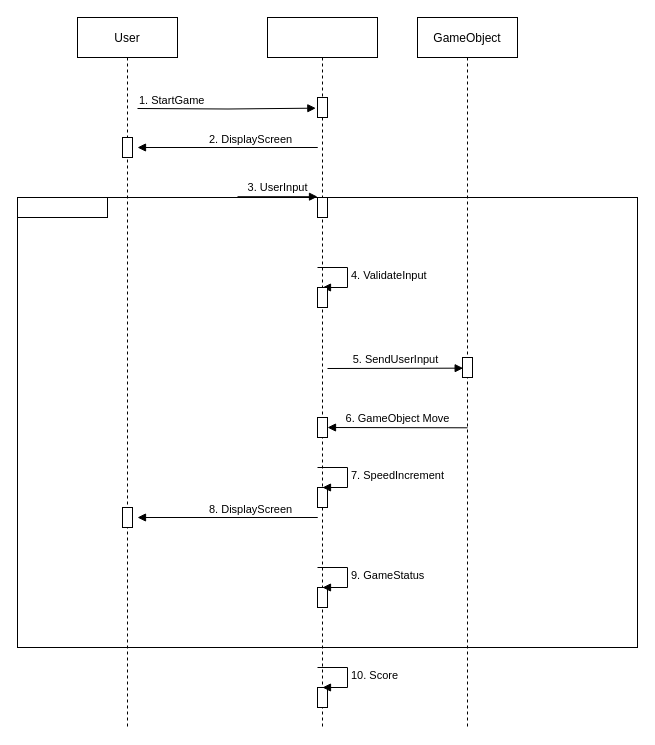
Some shapes in this 655 by 745 pixel diagram are drawn without their labels. The box of each missing label's shape, as (x1, y1, x2, y2) in pixels:
Game: (266, 16, 378, 728)
sequence loop: (16, 196, 108, 218)
